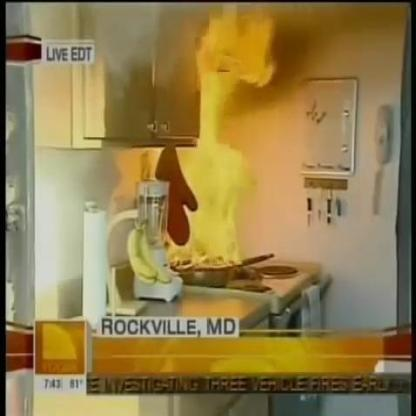fire: (164, 2, 280, 271)
